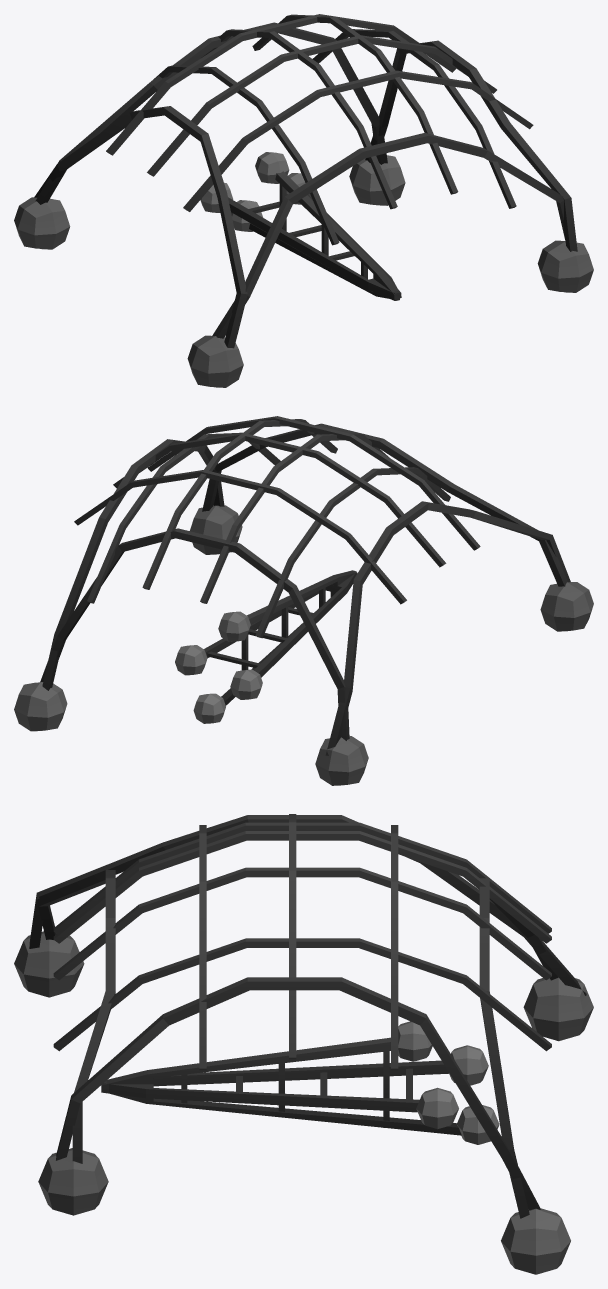
Rendered from setkabullet.fbx.
3 views of the same model, one above another, from view 1: azimuth 30°, elevation 25°; view 2: azimuth 150°, elevation 25°; view 3: azimuth 270°, elevation 25° (orthographic). The views are drawn at different scales.
Parts seen in each view (by area): view 1: setka, bullet_setka; view 2: setka, bullet_setka; view 3: setka, bullet_setka.
Boxes of the visible parts, x1,y1,x2,y2 form: setka: (14,14,593,387); bullet_setka: (200,152,401,300); setka: (14,416,593,785); bullet_setka: (175,570,357,723); setka: (14,814,593,1274); bullet_setka: (101,1021,499,1144).
Size of the model in its own units: 1832 by 1813 by 1150.
Materials: 1 (1 with a texture image).
